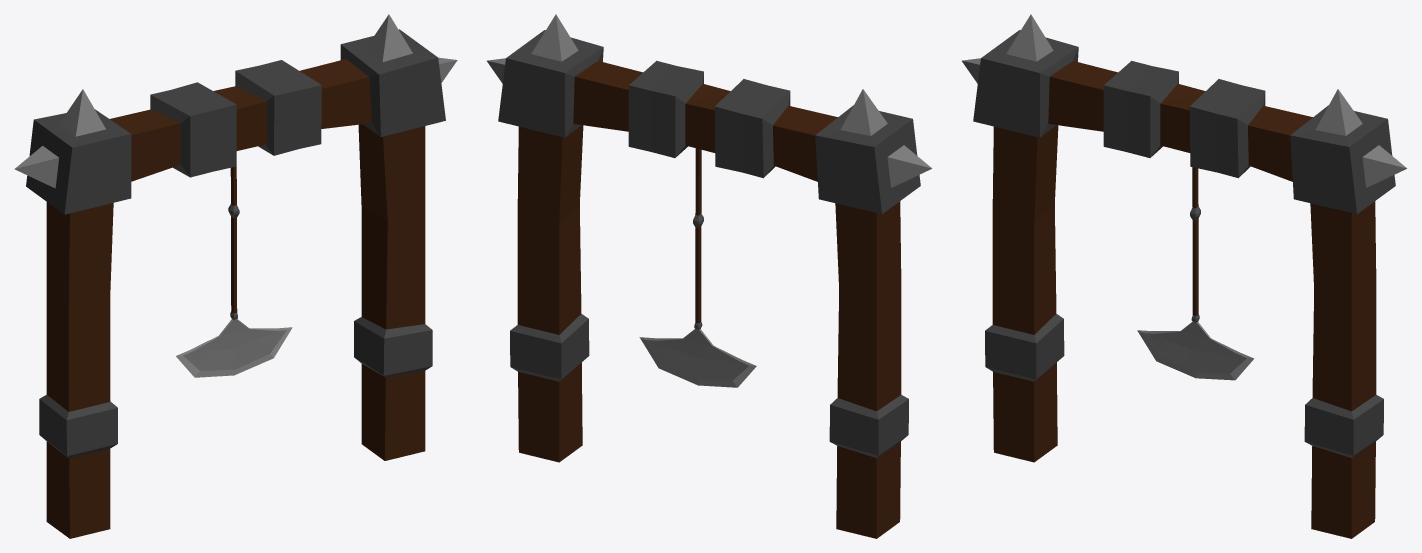
Rendered from SwingTrapD.fbx.
The picture shows the model from 3 angles, left to right: view 1: azimuth 30°, elevation 25°; view 2: azimuth 150°, elevation 25°; view 3: azimuth 330°, elevation 25°; orthographic projection.
Parts seen in each view (by area): view 1: Pole01D_1, Pole01D, Blade01D; view 2: Pole01D_1, Pole01D, Blade01D; view 3: Pole01D, Pole01D_1, Blade01D.
Boxes of the visible parts, left/top/right/bottom form: Pole01D_1: left=14, top=82, right=267, bottom=538; Pole01D: left=213, top=14, right=457, bottom=460; Blade01D: left=176, top=166, right=292, bottom=377; Pole01D_1: left=688, top=79, right=931, bottom=538; Pole01D: left=487, top=14, right=726, bottom=462; Blade01D: left=639, top=148, right=756, bottom=387; Pole01D: left=1163, top=79, right=1406, bottom=538; Pole01D_1: left=962, top=14, right=1201, bottom=462; Blade01D: left=1137, top=167, right=1254, bottom=380.
Bounding box in the file's own units: 550 × 515 × 84.75.
